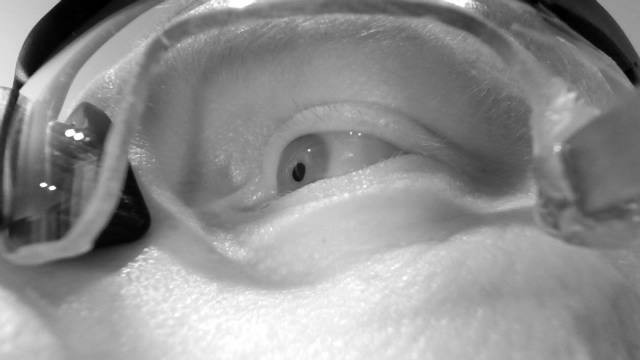pupil: (291, 162, 306, 182)
